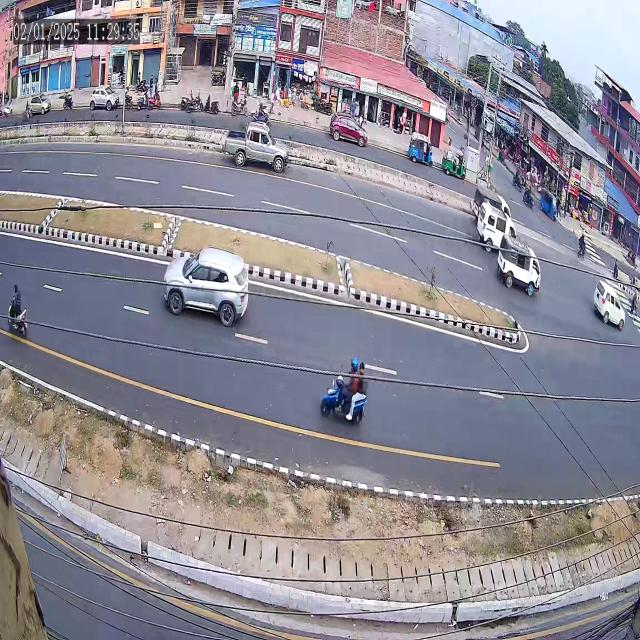auto: (537, 183, 560, 226)
car: (154, 235, 256, 342), (590, 270, 628, 344)
motorcycle: (310, 332, 373, 440), (5, 273, 34, 346)
van: (496, 232, 544, 301)
